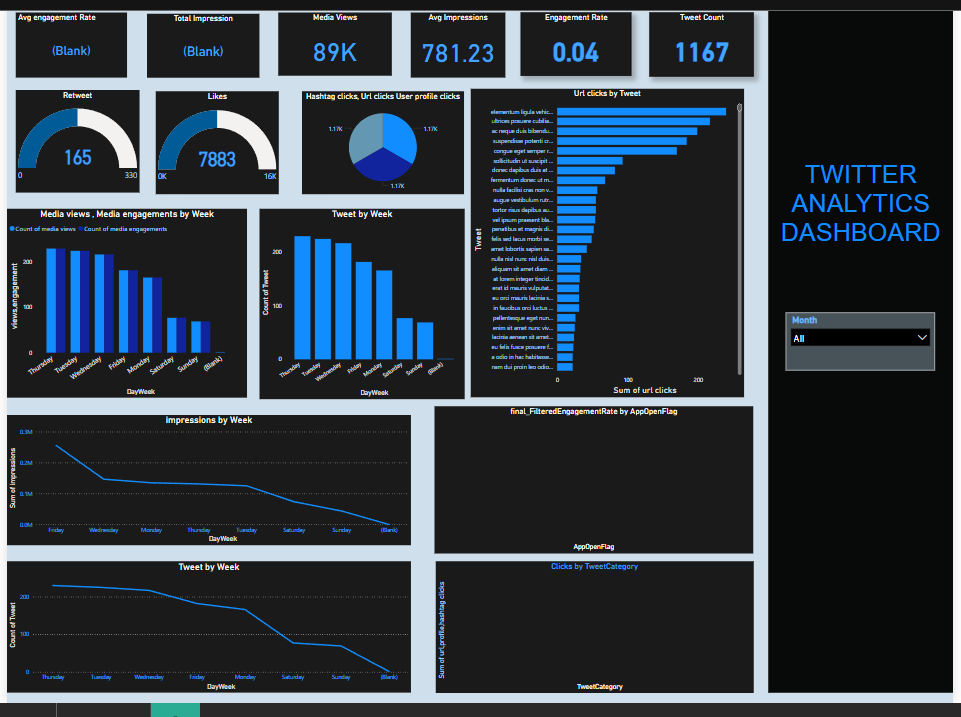

This screenshot's page, from the dashboard's own definition file:
{"tool":"powerbi","page":{"name":"Page 1","canvas":[2000,1550],"ordinal":0},"visuals":[{"type":"textbox","title":"twitter","box":[1608.9,44.4,391.1,1482.2],"z":0},{"type":"card","title":"Media Views","fields":{"Values":["Sum(SocialMedia.media views)"]},"box":[573.3,91.1,240,133.3],"z":1000},{"type":"card","title":" Avg Impressions","fields":{"Values":["Avg(SocialMedia.impressions)"]},"box":[853.3,88.9,200,137.8],"z":2000},{"type":"card","title":"Engagement Rate","fields":{"Values":["Avg(SocialMedia.engagement rate)"]},"box":[1086.7,91.1,233.3,133.3],"z":3000},{"type":"card","title":"Tweet Count","fields":{"Values":["CountNonNull(SocialMedia.Tweet)"]},"box":[1357.8,88.9,220,135.6],"z":4000},{"type":"gauge","title":"Likes","fields":{"Y":["Sum(SocialMedia.likes)"]},"box":[313.3,255.6,260,217.8],"z":5000},{"type":"gauge","title":"Retweet","fields":{"Y":["Max(SocialMedia.retweets)"]},"box":[18.5,253.6,261.5,216.6],"z":6000},{"type":"slicer","fields":{"Values":["SocialMedia.MonthName"]},"box":[1646.7,724.4,315.6,122.2],"z":7000},{"type":"lineChart","title":" Tweet by Week","fields":{"Category":["SocialMedia.DayWeek"],"Y":["CountNonNull(SocialMedia.Tweet)"]},"box":[0,1248.9,853.3,277.8],"z":8000},{"type":"lineChart","title":" impressions by Week","fields":{"Category":["SocialMedia.DayWeek"],"Y":["Sum(SocialMedia.impressions)"]},"box":[0,940,853.3,275.6],"z":9000},{"type":"clusteredBarChart","title":" Url clicks by Tweet","fields":{"Category":["SocialMedia.Tweet"],"Y":["Sum(SocialMedia.url clicks)"]},"box":[981,251.7,577.6,651.7],"z":10000},{"type":"pieChart","title":" Hashtag clicks, Url clicks  User profile clicks","fields":{"Y":["CountNonNull(SocialMedia.hashtag clicks)","CountNonNull(SocialMedia.url clicks)","CountNonNull(SocialMedia.user profile clicks)"]},"box":[624.4,255.6,342.2,217.8],"z":11000},{"type":"clusteredColumnChart","title":"Media views , Media engagements by Week","fields":{"Category":["SocialMedia.DayWeek"],"Y":["CountNonNull(SocialMedia.media views)","CountNonNull(SocialMedia.media engagements)"]},"box":[0,504.5,507.2,398.9],"z":12000},{"type":"clusteredColumnChart","title":"Tweet by Week","fields":{"Category":["SocialMedia.DayWeek"],"Y":["CountNonNull(SocialMedia.Tweet)"]},"box":[533.3,504.4,433.3,402.2],"z":13000},{"type":"card","title":"Avg engagement Rate","fields":{"Values":["SocialMedia.Avg_Engagement_Rate"]},"box":[17.8,91.1,235.6,137.8],"z":14000},{"type":"card","title":"Total Impression","fields":{"Values":["SocialMedia.Total_Impressions"]},"box":[295.6,93.3,237.8,135.6],"z":15000},{"type":"clusteredColumnChart","title":"Clicks by TweetCategory","fields":{"Category":["SocialMedia.TweetCategory"],"Y":["Sum(SocialMedia.url clicks)","Sum(SocialMedia.user profile clicks)","Sum(SocialMedia.hashtag clicks)"]},"box":[906.7,1248.3,671.7,278.3],"z":16000},{"type":"clusteredColumnChart","fields":{"Category":["SocialMedia.AppOpenFlag"],"Y":["SocialMedia.final_FilteredEngagementRate"]},"box":[904.4,922.2,673.3,311.1],"z":17000}]}

Visuals, with their boxes in screenshot pixels (x1, y1, x2, y2):
"twitter" textbox: <region>765, 0, 950, 691</region>
"Media Views" card: <region>274, 11, 388, 74</region>
" Avg Impressions" card: <region>407, 10, 502, 75</region>
"Engagement Rate" card: <region>517, 11, 628, 74</region>
"Tweet Count" card: <region>646, 10, 750, 74</region>
"Likes" gauge: <region>151, 89, 274, 192</region>
"Retweet" gauge: <region>11, 88, 135, 190</region>
slicer - SocialMedia.MonthName: <region>783, 311, 932, 369</region>
" Tweet by Week" lineChart: <region>2, 559, 407, 691</region>
" impressions by Week" lineChart: <region>2, 413, 407, 543</region>
" Url clicks by Tweet" clusteredBarChart: <region>467, 87, 741, 395</region>
" Hashtag clicks, Url clicks  User profile clicks" pieChart: <region>298, 89, 460, 192</region>
"Media views , Media engagements by Week" clusteredColumnChart: <region>2, 206, 243, 395</region>
"Tweet by Week" clusteredColumnChart: <region>255, 206, 460, 397</region>
"Avg engagement Rate" card: <region>11, 11, 123, 76</region>
"Total Impression" card: <region>143, 12, 255, 76</region>
"Clicks by TweetCategory" clusteredColumnChart: <region>432, 559, 750, 691</region>
clusteredColumnChart - SocialMedia.AppOpenFlag x SocialMedia.final_FilteredEngagementRate: <region>431, 404, 750, 552</region>
